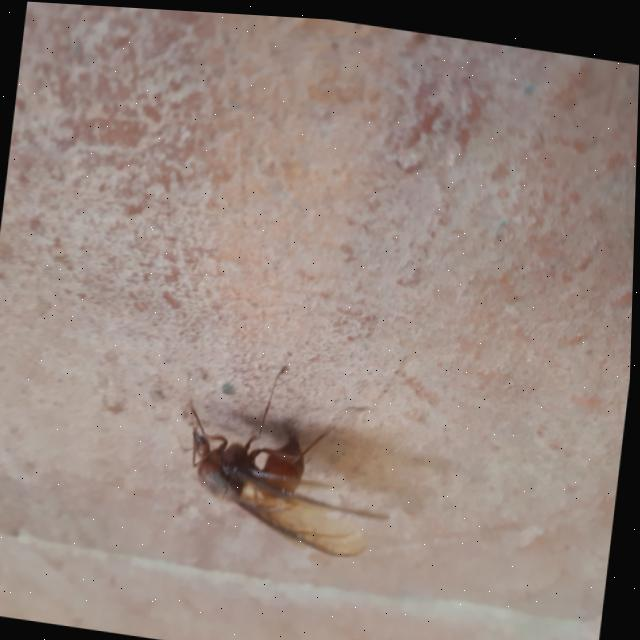Alive-Male-Alate: (178, 349, 409, 560)
